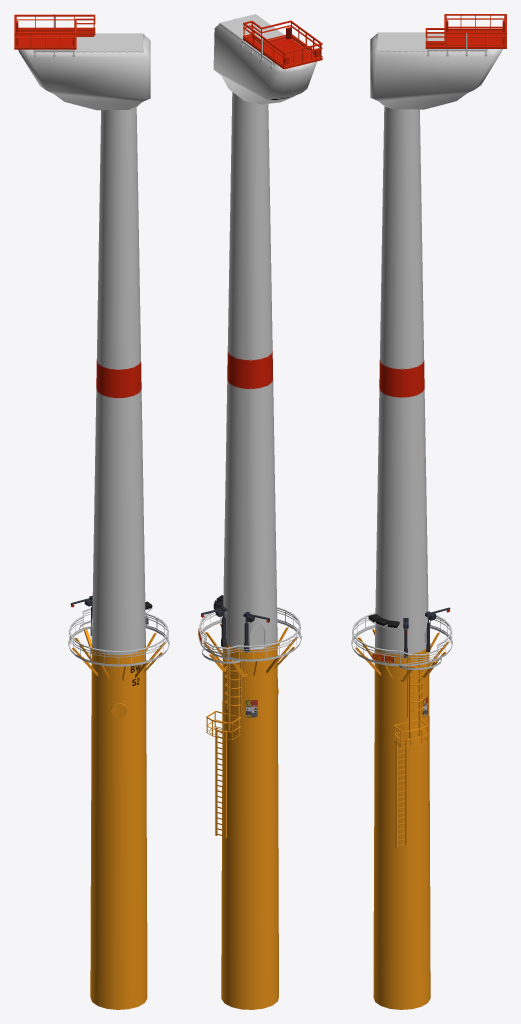
The model's file is pillar.glb.
3 views of the same model, side by side, from view 1: azimuth 90°, elevation 25°; view 2: azimuth 210°, elevation 25°; view 3: azimuth 270°, elevation 25° (orthographic).
Visible parts, largest first — view 1: Windmill03_Windmill03_0; view 2: Windmill03_Windmill03_0; view 3: Windmill03_Windmill03_0.
Boxes of the visible parts, x1,y1,x2,y2 form: Windmill03_Windmill03_0: [14, 14, 169, 1009]; Windmill03_Windmill03_0: [198, 14, 322, 1009]; Windmill03_Windmill03_0: [351, 14, 506, 1009].
Size of the model in its own units: 9.75 by 95.35 by 13.81.
1 material, 1 textured.
